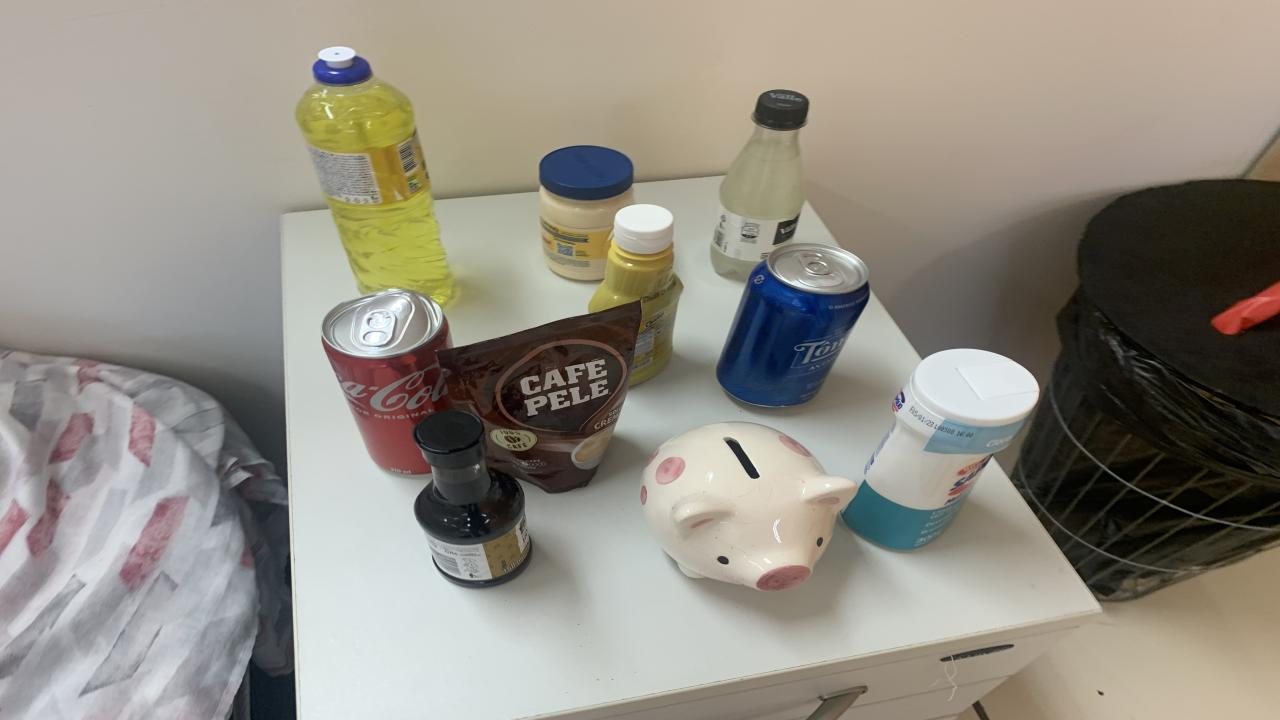Cleaner-Cleanup_Items: (842, 349, 1038, 549)
Coffee-Pantry_Items: (438, 302, 640, 493)
Coke-Drinks: (322, 289, 452, 474)
Detergent-Cleanup_Items: (295, 47, 452, 304)
English_Sauce-Pantry_Items: (412, 411, 532, 587)
Mayonnaise-Pantry_Items: (540, 146, 635, 281)
Mustard-Pantry_Items: (588, 204, 682, 384)
Pig_Safe-Miscellaneous: (640, 422, 858, 592)
Soda-Drinks: (710, 90, 810, 281)
Tonic-Drinks: (718, 244, 870, 407)
